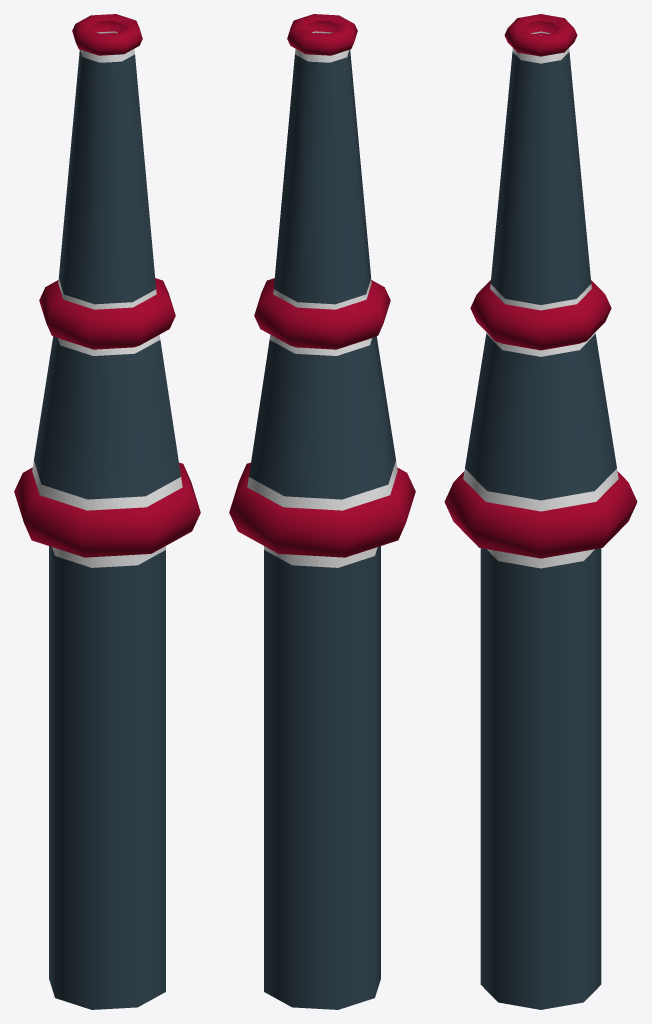
Rendered from lance.fbx.
3 renders of one model, left to right at view 1: azimuth 30°, elevation 25°; view 2: azimuth 150°, elevation 25°; view 3: azimuth 270°, elevation 25°, orthographic.
Visible parts, largest first — view 1: Lance; view 2: Lance; view 3: Lance.
Boxes of the visible parts, left/top/right/bottom form: Lance: left=14, top=14, right=200, bottom=1009; Lance: left=229, top=14, right=415, bottom=1009; Lance: left=444, top=14, right=637, bottom=1009.
Bounding box in the file's own units: 24.93 × 137 × 24.93.
1 material, 1 textured.
